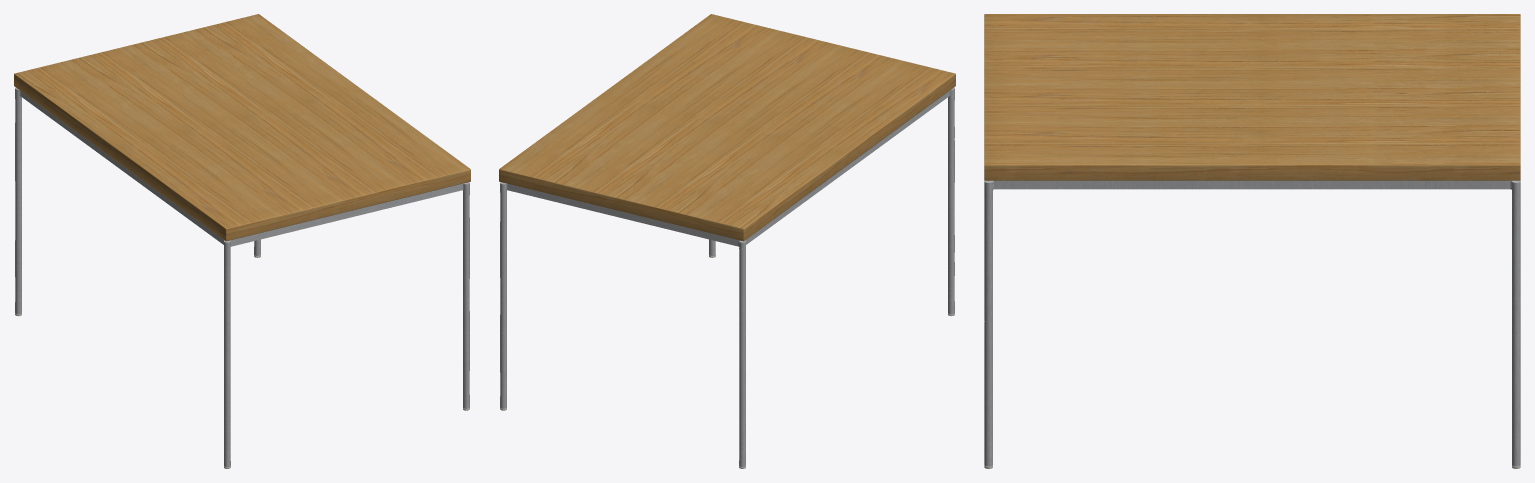
File: stul_06.gltf
3 renders of one model, left to right at view 1: azimuth 30°, elevation 25°; view 2: azimuth 150°, elevation 25°; view 3: azimuth 270°, elevation 25°, orthographic. The views are drawn at different scales.
Parts seen in each view (by area): view 1: object_2.010, object_1.017; view 2: object_2.010, object_1.017; view 3: object_2.010, object_1.017.
Part boxes in pixels (x1,y1,x2,y2): object_2.010: [14, 14, 470, 241]; object_1.017: [15, 87, 469, 467]; object_2.010: [499, 14, 955, 241]; object_1.017: [500, 87, 954, 467]; object_2.010: [984, 14, 1520, 180]; object_1.017: [984, 180, 1520, 466].
Size of the model in its own units: 0.8 by 0.7509 by 1.2.
Materials: 4 (3 with a texture image).
